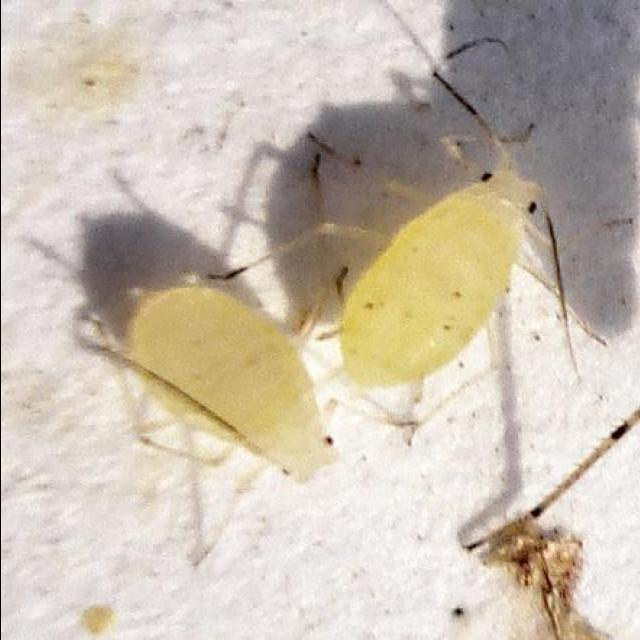aphid: (321, 123, 559, 398), (97, 267, 349, 521)
